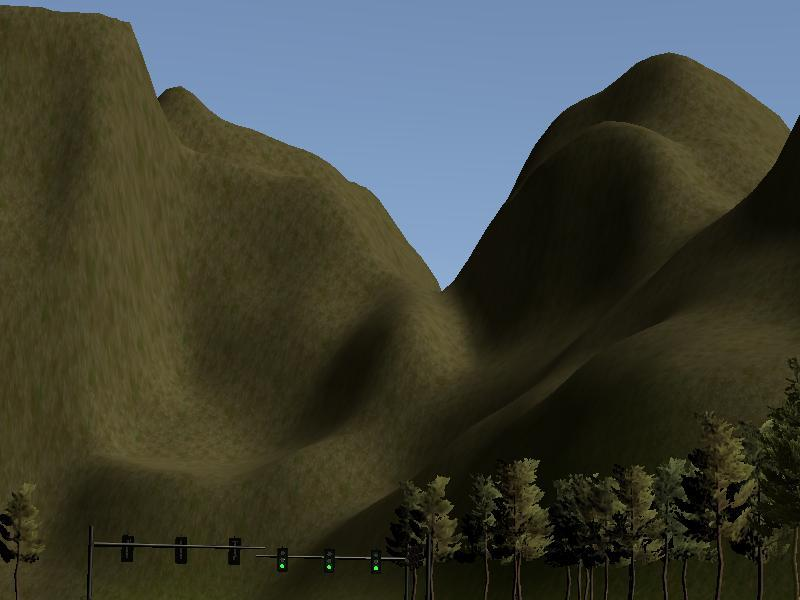Green: (369, 546, 382, 575), (323, 547, 336, 574), (276, 546, 289, 572)
